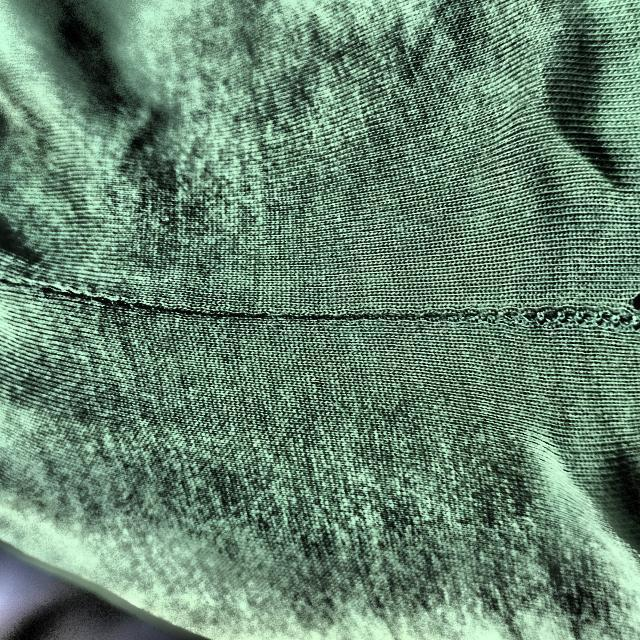gray stitch: (485, 279, 640, 343)
